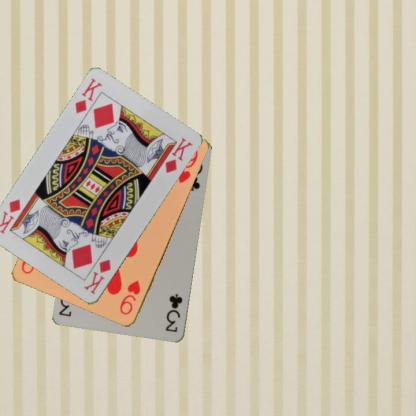3c: (163, 292, 184, 334)
9h: (117, 277, 142, 317)
Kd: (72, 76, 104, 116), (81, 257, 113, 296)
